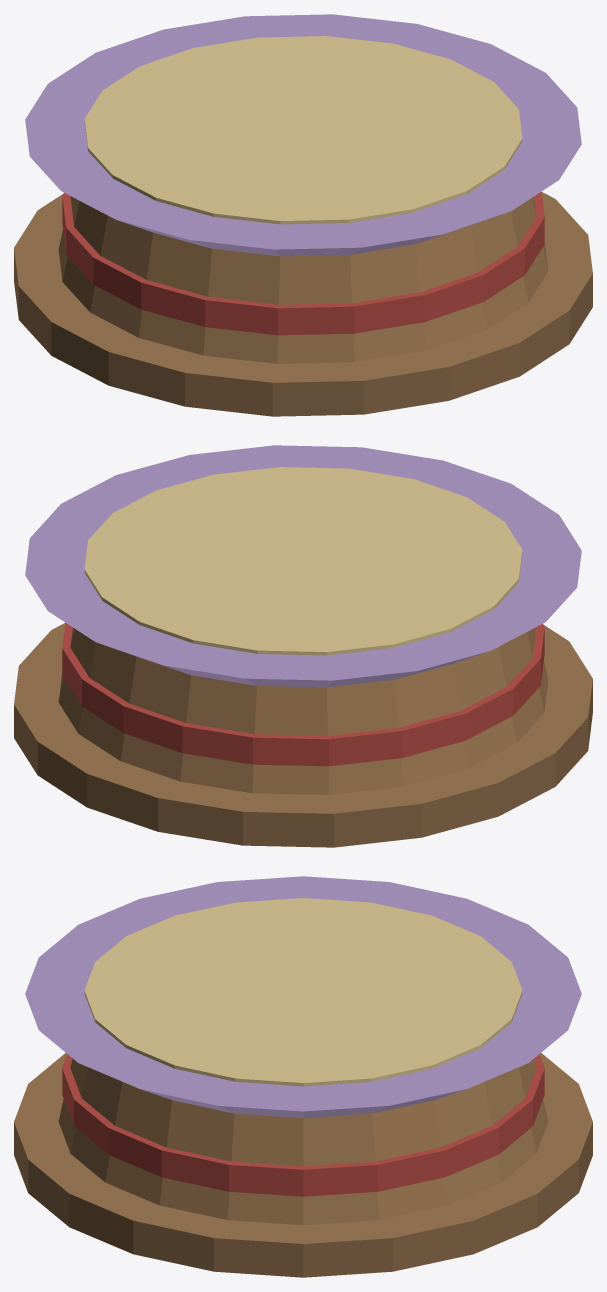
File: goo_cork_stand@winter.fbx
3 renders of one model, top to bottom at view 1: azimuth 30°, elevation 25°; view 2: azimuth 150°, elevation 25°; view 3: azimuth 270°, elevation 25°, orthographic.
Visible parts, largest first — view 1: goo_cork_stand; view 2: goo_cork_stand; view 3: goo_cork_stand.
Part boxes in pixels (left/top/right/bottom): goo_cork_stand: left=14, top=14, right=592, bottom=416; goo_cork_stand: left=14, top=445, right=592, bottom=847; goo_cork_stand: left=14, top=876, right=592, bottom=1277.
Bounding box in the file's own units: 7.8 × 2.45 × 7.8.
